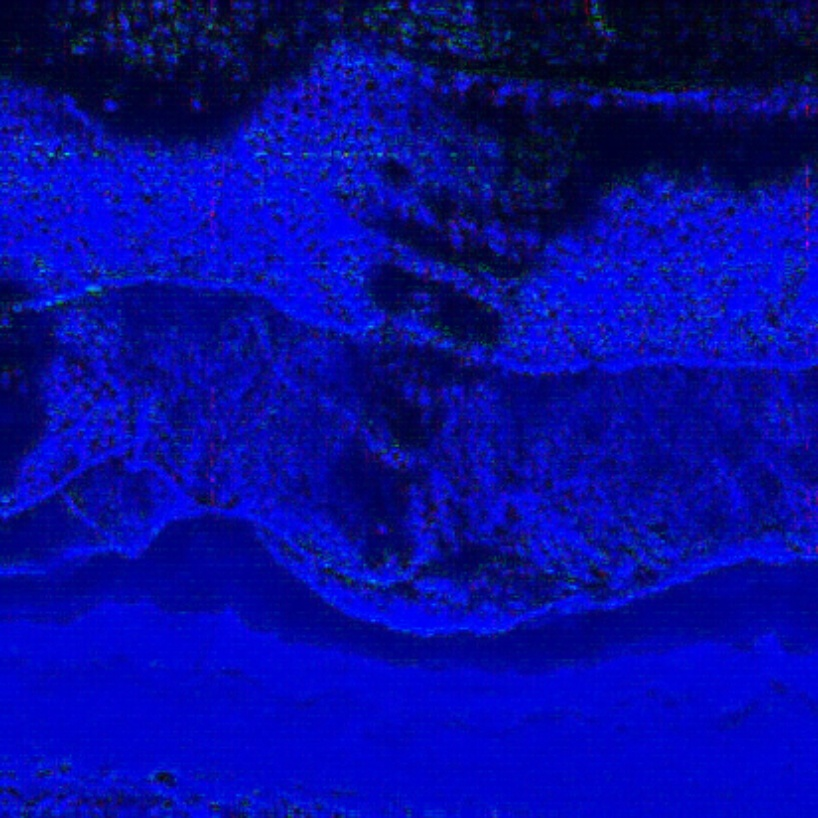rip_current: (273, 52, 552, 529)
